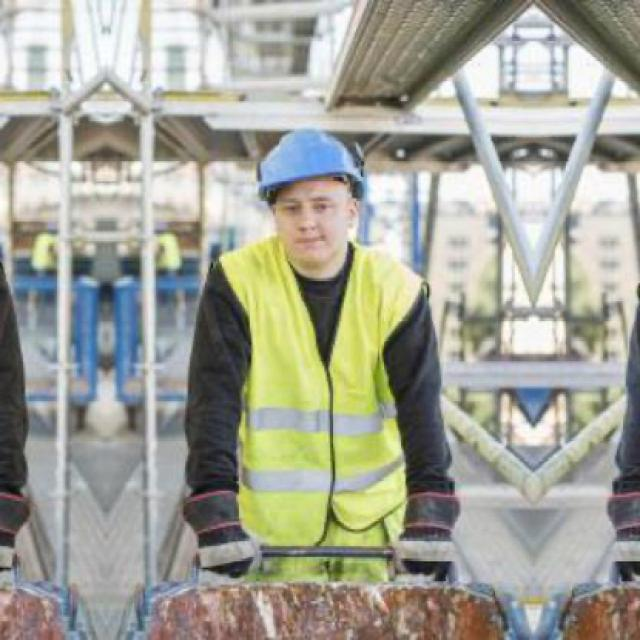helmet: (245, 111, 373, 272)
